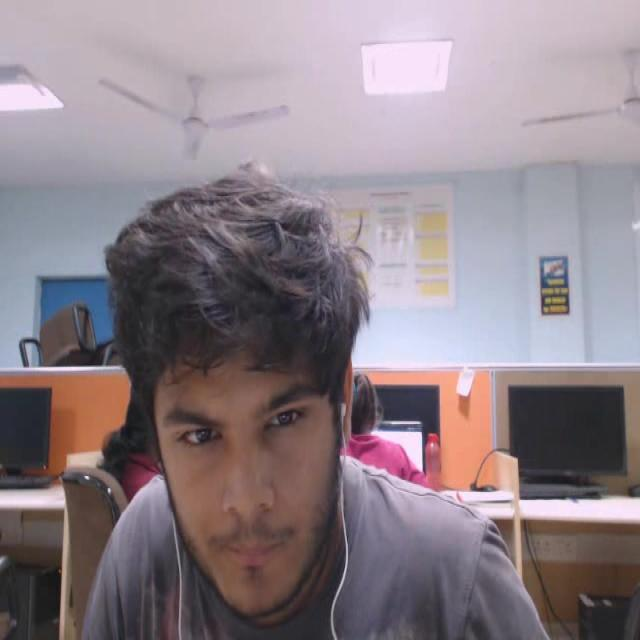Engaged: (85, 129, 399, 640)
